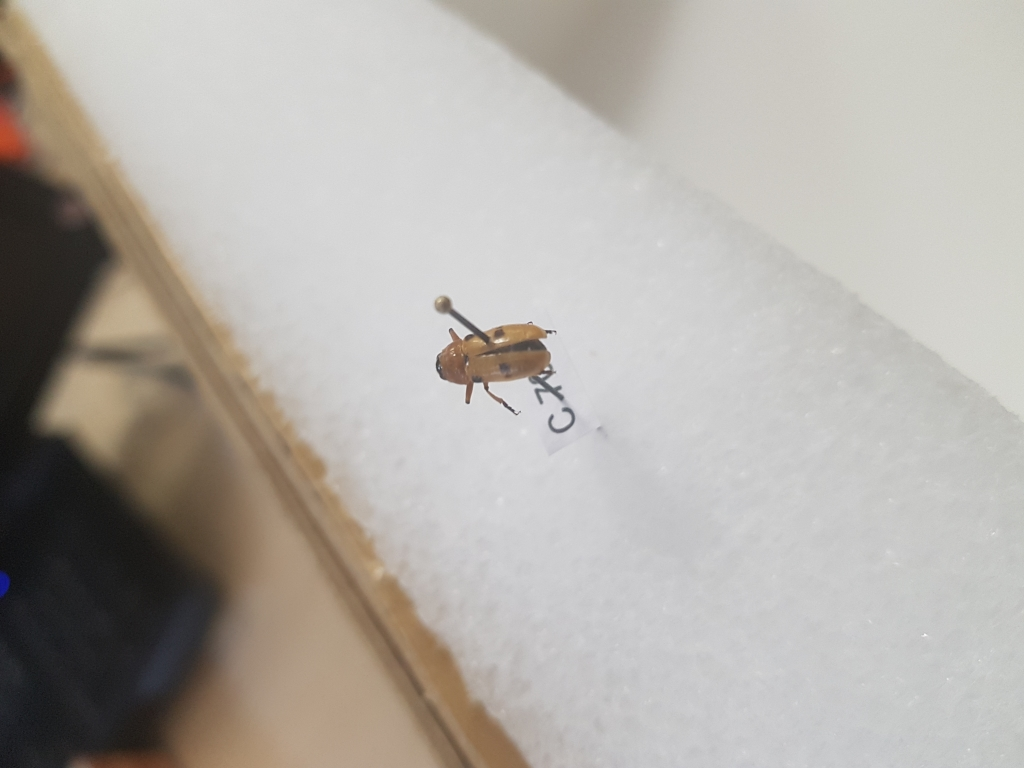Tituboea_macropus: (423, 316, 571, 416)
